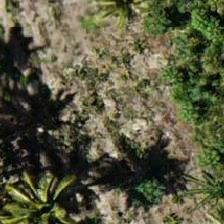Kelapa_Sawit: (0, 164, 89, 223), (177, 144, 223, 223)
